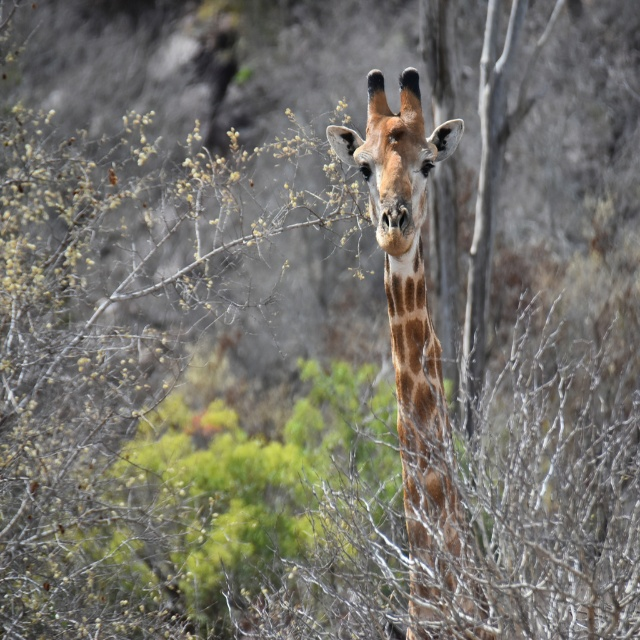Giraffe: (356, 53, 465, 600)
